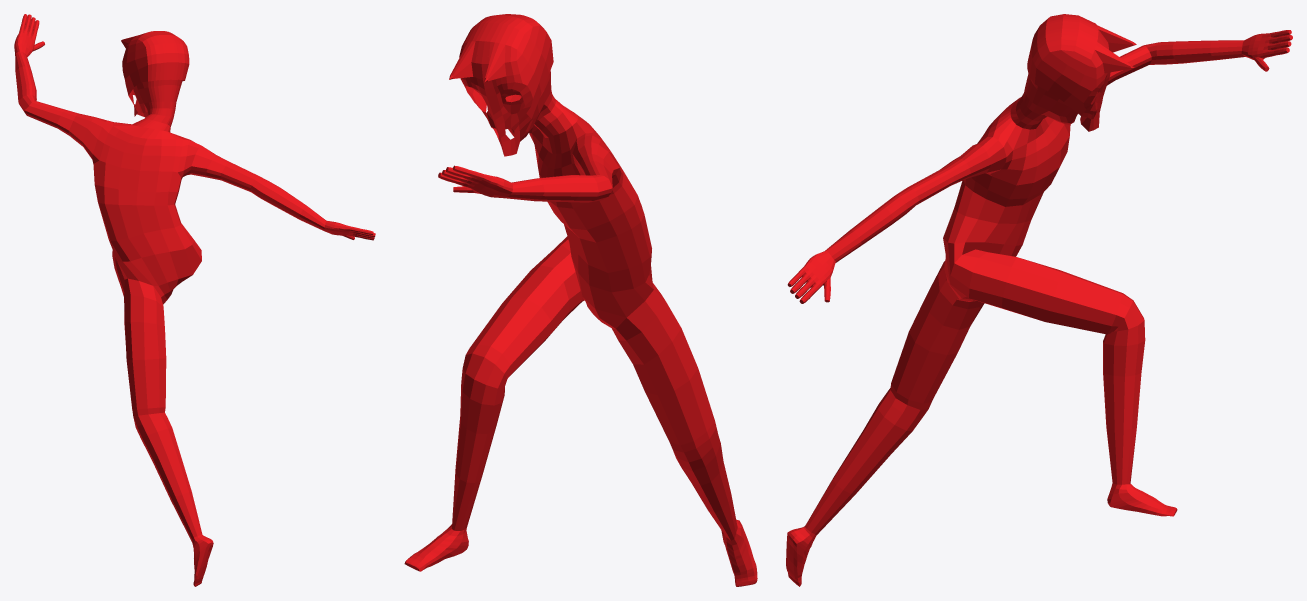
The model's file is saltoadelanteE_000110.obj.
3 renders of one model, left to right at view 1: azimuth 30°, elevation 25°; view 2: azimuth 150°, elevation 25°; view 3: azimuth 270°, elevation 25°, orthographic. The views are drawn at different scales.
Visible parts, largest first — view 1: Plane.002_Plane.001; view 2: Plane.002_Plane.001; view 3: Plane.002_Plane.001.
Part boxes in pixels (bbox=[...]): Plane.002_Plane.001: bbox=[14, 14, 375, 586]; Plane.002_Plane.001: bbox=[404, 14, 757, 586]; Plane.002_Plane.001: bbox=[786, 14, 1292, 586].
Bounding box in the file's own units: 3.41 × 6.84 × 5.2.
